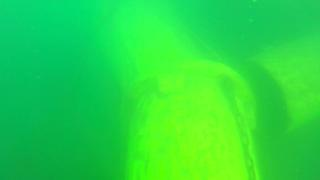pipe: (126, 63, 261, 180), (101, 1, 195, 98), (240, 35, 320, 133)
